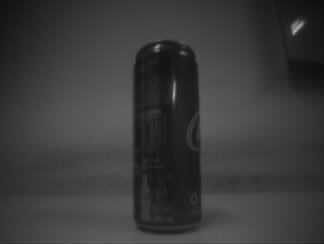Tin can: (132, 39, 205, 236)
